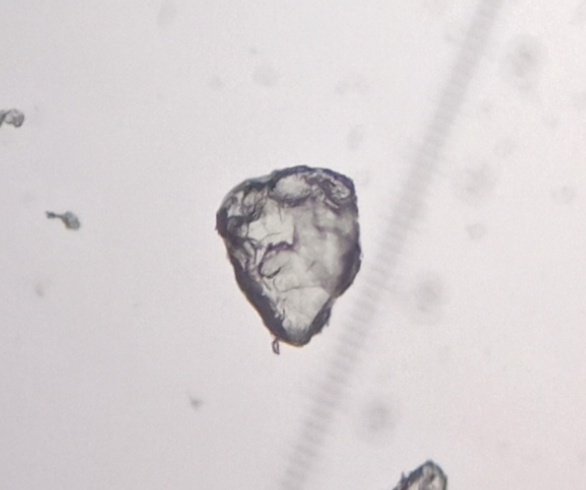microplastic: (213, 164, 367, 356), (382, 460, 455, 490), (45, 204, 83, 236), (1, 102, 25, 132)
